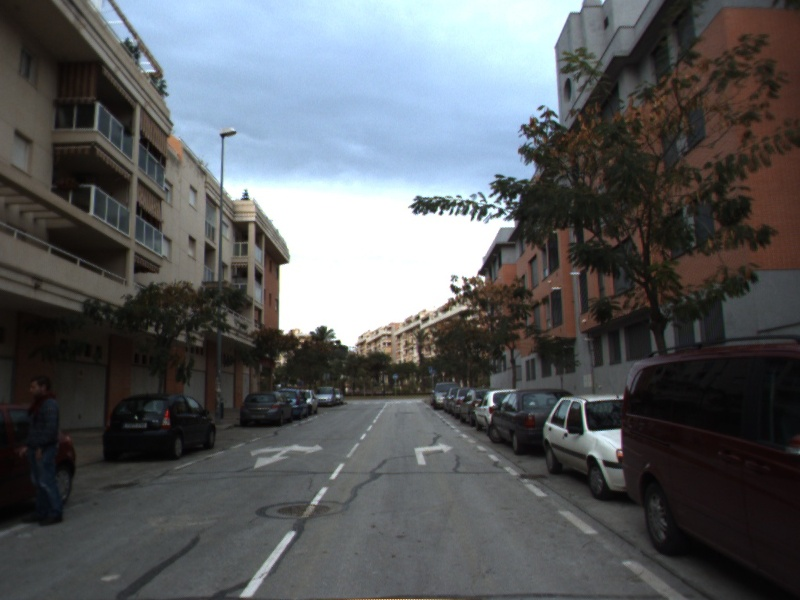RIGHT: (412, 440, 456, 466)
